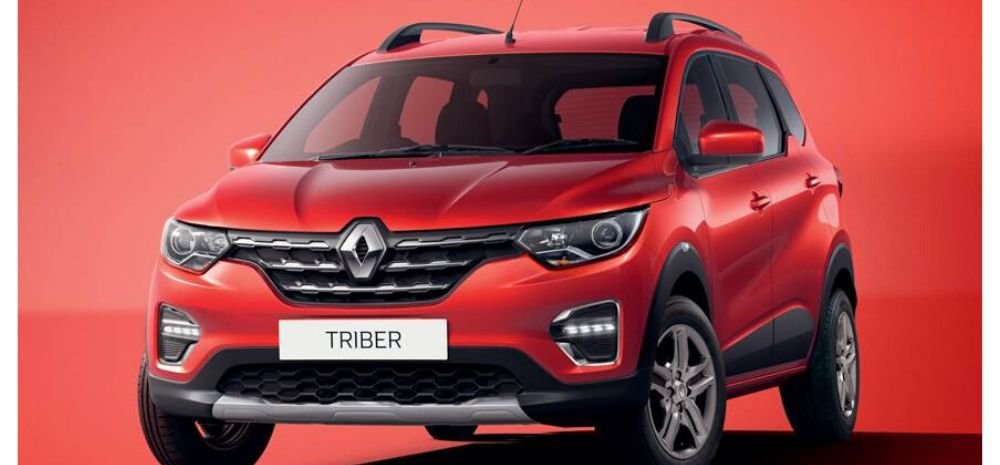car: (144, 15, 863, 451)
